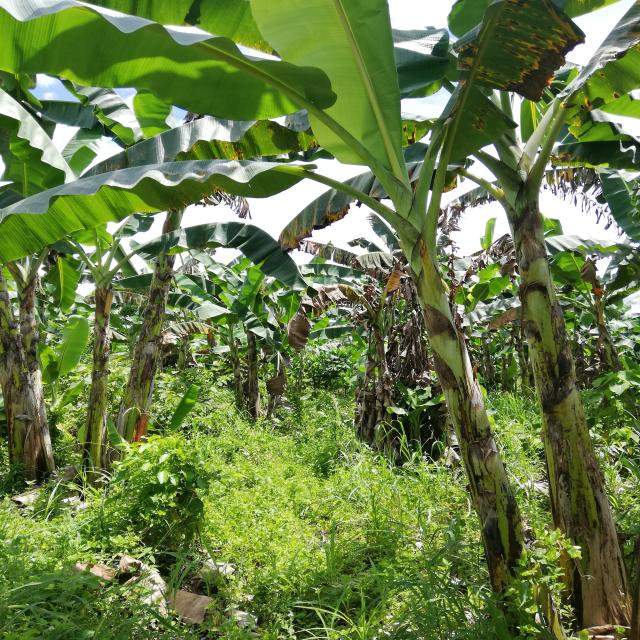Banana-plant: (326, 137, 530, 601), (485, 109, 639, 640), (116, 195, 203, 451), (0, 241, 56, 500), (79, 248, 132, 486)
